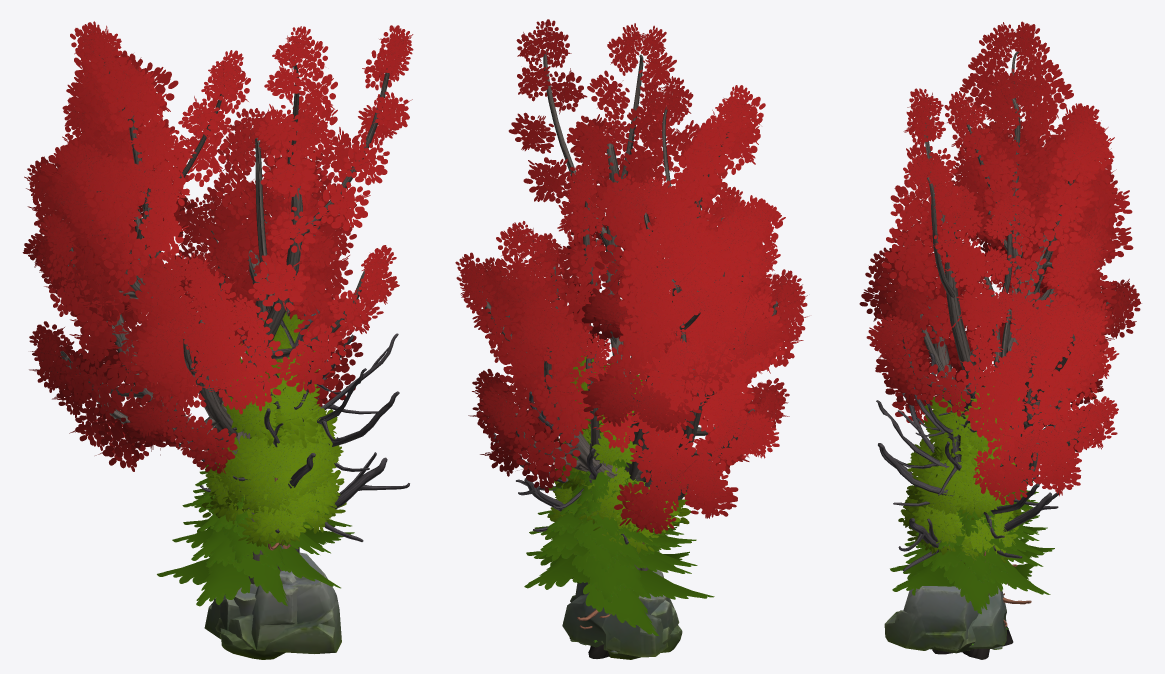
File: nature.glb
3 renders of one model, left to right at view 1: azimuth 30°, elevation 25°; view 2: azimuth 150°, elevation 25°; view 3: azimuth 270°, elevation 25°, orthographic. The views are drawn at different scales.
Parts seen in each view (by area): view 1: TwistedTree_2, CommonTree_3, Pine_2, CommonTree_1, Rock_Medium_3, DeadTree_1, CommonTree_2, Rock_Medium_1, Pine_1, Rock_Medium_2; view 2: TwistedTree_2, Pine_2, Pine_1, Rock_Medium_2, CommonTree_1, Pine_3, CommonTree_3, DeadTree_1, CommonTree_2, Rock_Medium_3, Rock_Medium_1; view 3: TwistedTree_2, Pine_2, DeadTree_1, Rock_Medium_3, CommonTree_3, CommonTree_2, CommonTree_1, Pine_1, Rock_Medium_2.
Boxes of the visible parts, x1,y1,x2,y2 form: TwistedTree_2: (22,21,413,584); CommonTree_3: (215,312,343,518); Pine_2: (157,425,354,606); CommonTree_1: (201,405,346,546); Rock_Medium_3: (220,552,341,659); DeadTree_1: (174,309,409,553); CommonTree_2: (205,391,344,550); Rock_Medium_1: (215,570,298,650); Pine_1: (172,423,330,576); Rock_Medium_2: (204,587,256,639); TwistedTree_2: (455,19,808,658); Pine_2: (524,457,714,635); Pine_1: (534,441,697,620); Rock_Medium_2: (562,593,668,657); CommonTree_1: (558,419,690,553); Pine_3: (543,422,683,629); CommonTree_3: (569,350,667,535); DeadTree_1: (493,324,671,544); CommonTree_2: (547,428,688,543); Rock_Medium_3: (570,582,682,652); Rock_Medium_1: (577,569,679,659); TwistedTree_2: (859,21,1141,659); Pine_2: (890,490,1054,614); DeadTree_1: (876,353,1060,654); Rock_Medium_3: (884,586,986,650); CommonTree_3: (905,373,1019,564); CommonTree_2: (898,430,1022,555); CommonTree_1: (903,446,1029,568); Pine_1: (904,481,1047,604); Rock_Medium_2: (969,586,1006,648).
Bounding box in the file's own units: 10.56 × 19.08 × 9.2.
Materials: 12 (12 with a texture image).
